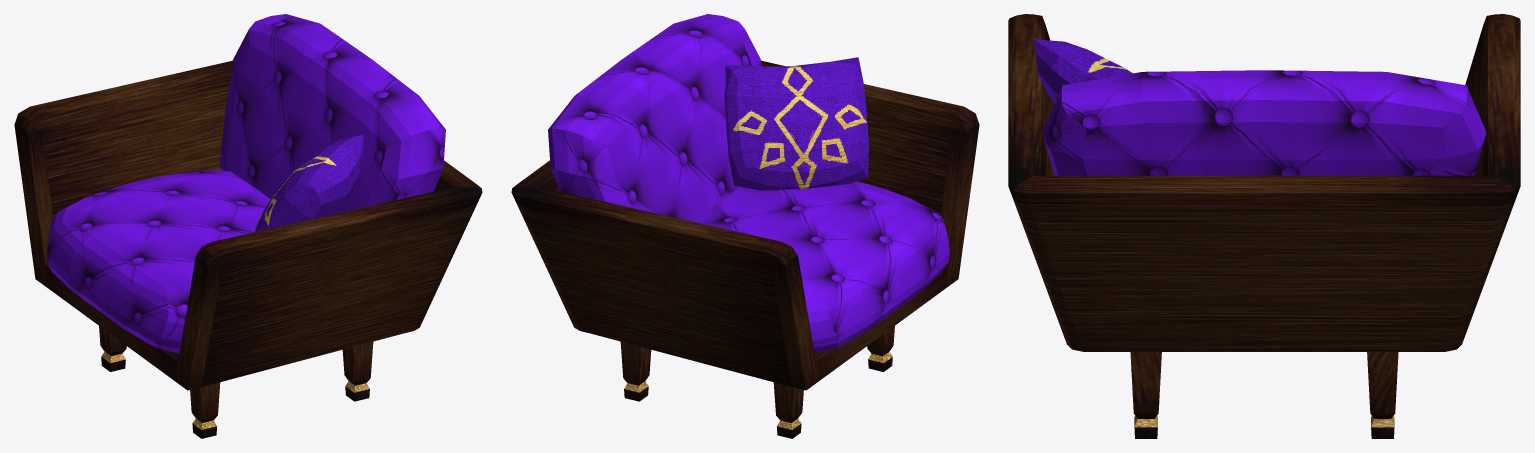
Rendered from Sillon.fbx.
3 renders of one model, left to right at view 1: azimuth 30°, elevation 25°; view 2: azimuth 150°, elevation 25°; view 3: azimuth 270°, elevation 25°, orthographic. The views are drawn at different scales.
Visible parts, largest first — view 1: Cube.033; view 2: Cube.033; view 3: Cube.033.
Part boxes in pixels (left/top/right/bottom): Cube.033: left=14, top=14, right=482, bottom=438; Cube.033: left=511, top=14, right=979, bottom=438; Cube.033: left=1008, top=14, right=1520, bottom=438.
Bounding box in the file's own units: 106 × 102 × 124.
